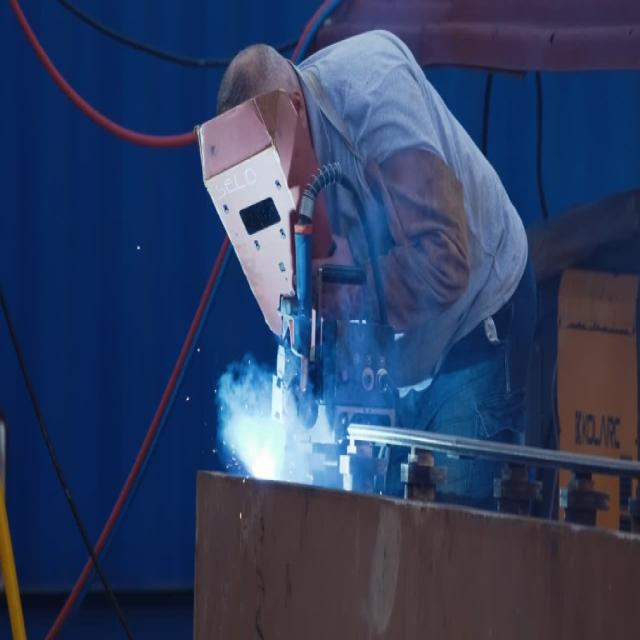welding: (252, 431, 276, 477)
